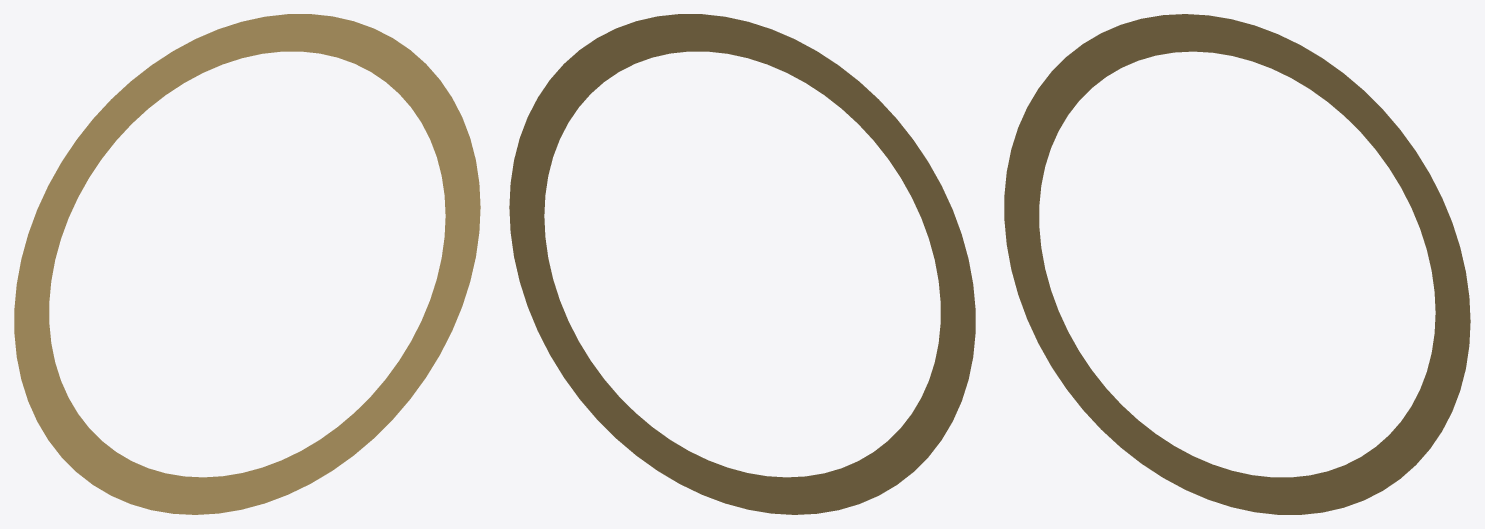
The model's file is step_38.glb.
3 views of the same model, side by side, from view 1: azimuth 30°, elevation 25°; view 2: azimuth 150°, elevation 25°; view 3: azimuth 330°, elevation 25° (orthographic).
Visible parts, largest first — view 1: overlay; view 2: overlay; view 3: overlay.
Boxes of the visible parts, x1,y1,x2,y2 form: overlay: (14,14,480,514); overlay: (509,14,975,514); overlay: (1004,14,1470,514).
Size of the model in its own units: 79.95 by 79.98 by 0.
